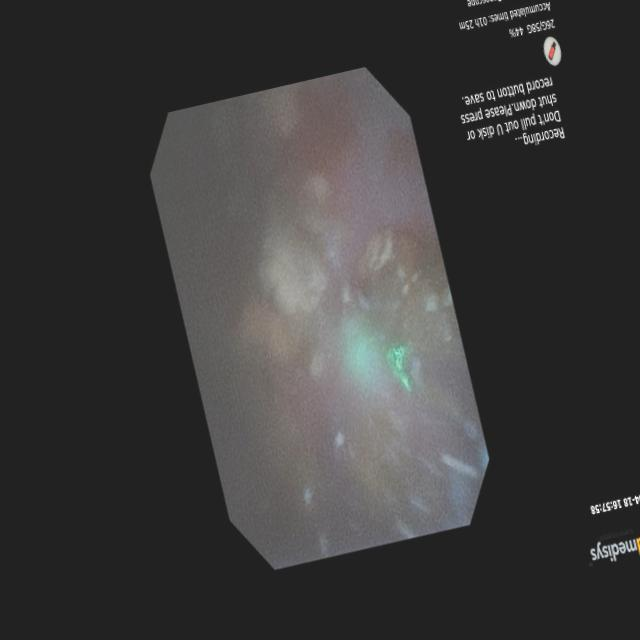laser-fibre: (393, 350, 484, 437)
laser_dot: (345, 331, 376, 379)
stone-new: (350, 228, 457, 349), (242, 220, 329, 358)
